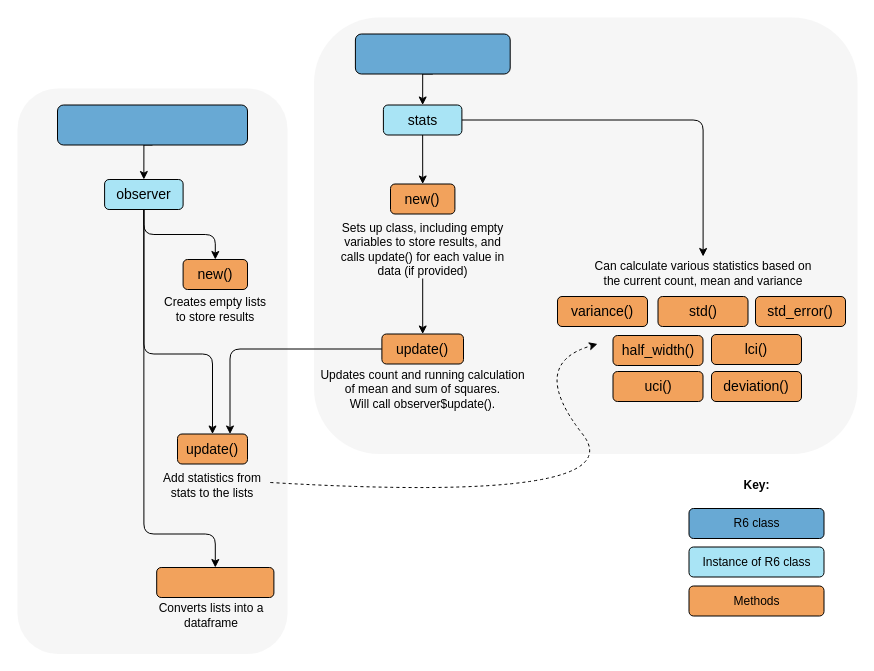
Image size: 874x671. Some labels were removed from this diagram. Here are the shapes that lost their labels. From the top down, the box of each, then its label:
(354, 33, 510, 74): WelfordStats
(56, 104, 248, 145): ReplicationTabuliser
(156, 566, 274, 598): summary_table()
